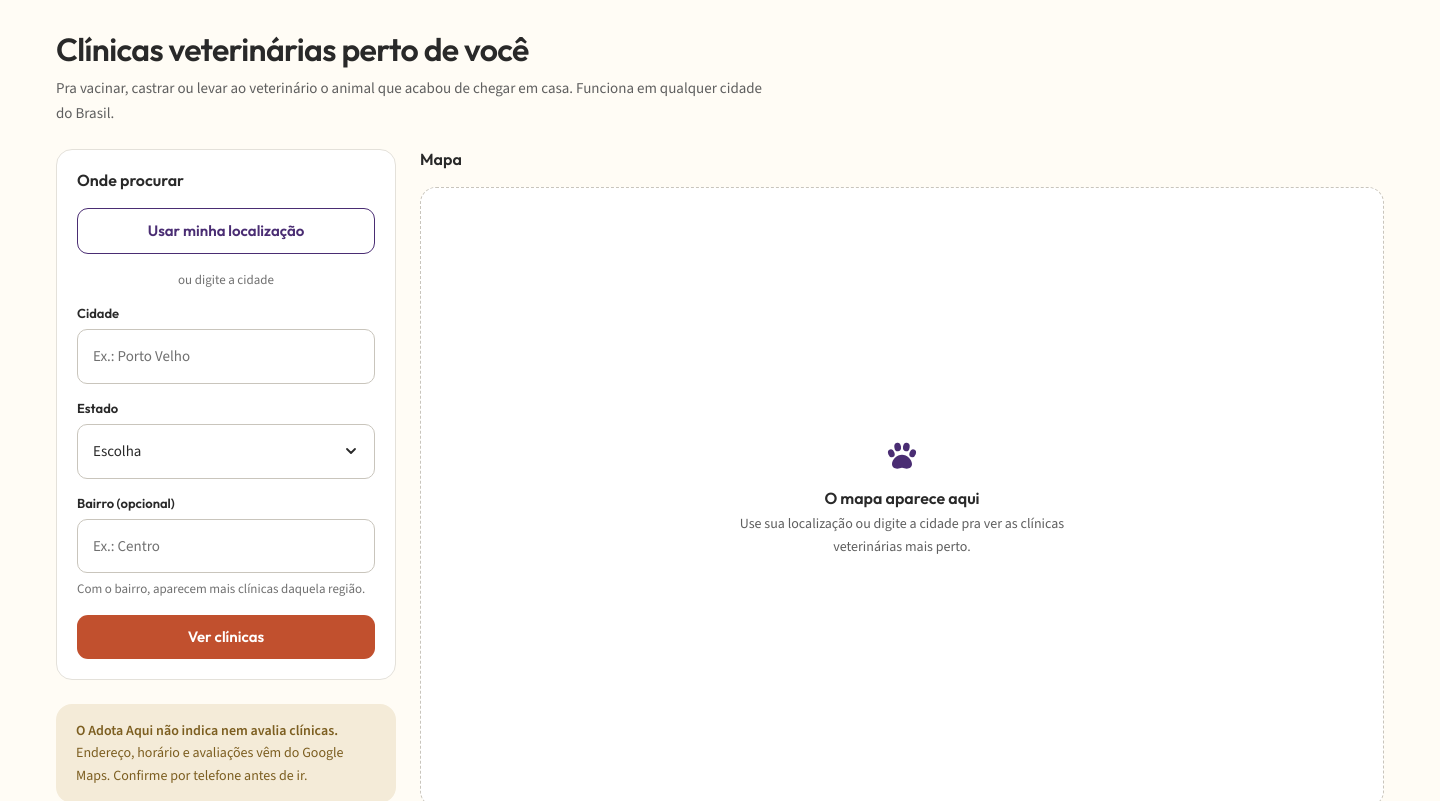
Test: localização negada: explica e deixa digitar a cidade
Click the button "Usar minha localização" at (226, 231), box [77,208,375,254]
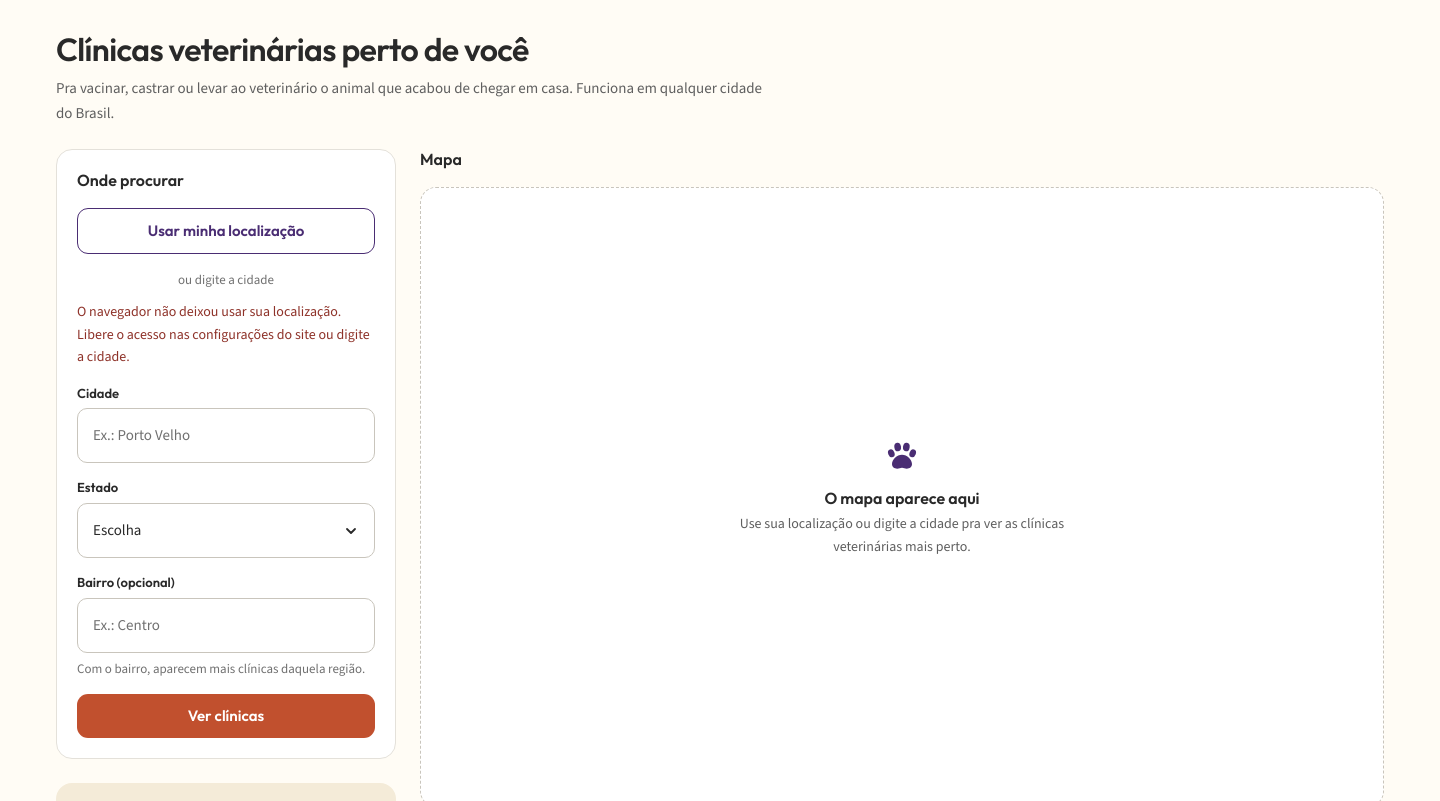
Expected: the text "O mapa aparece aqui" is shown, [824,488,980,509]
Now the message shows "O navegador não deixou usar sua localização", box [77,302,370,366]
